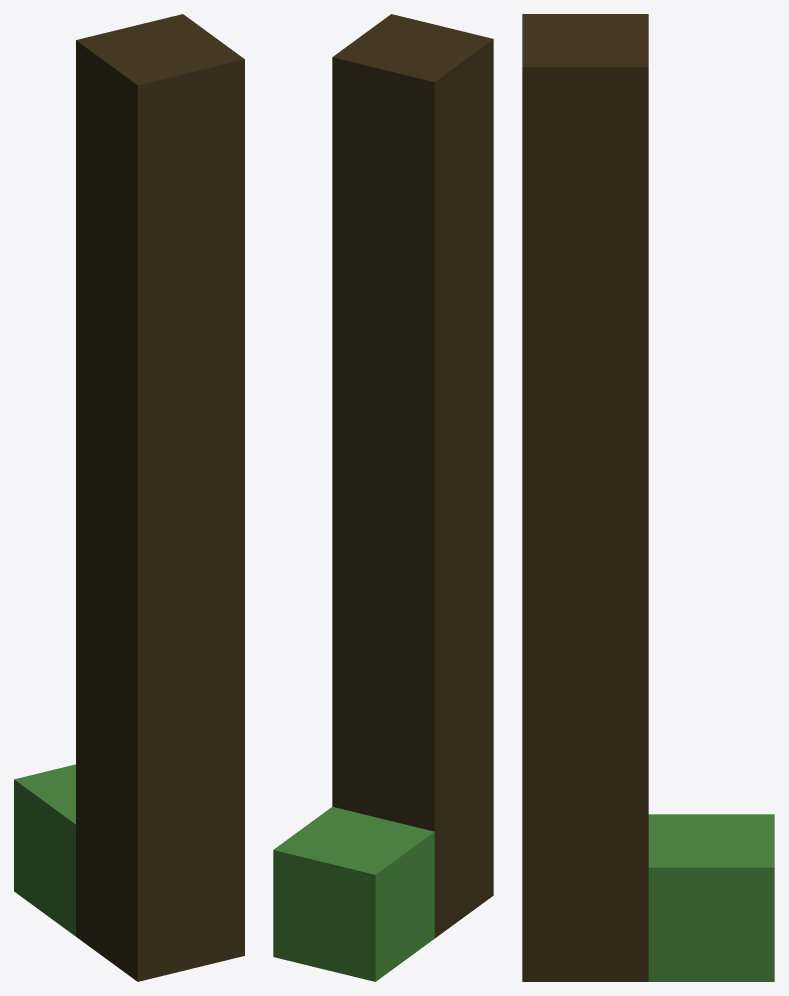
The model's file is tomatoes1.glb.
The picture shows the model from 3 angles, left to right: view 1: azimuth 30°, elevation 25°; view 2: azimuth 150°, elevation 25°; view 3: azimuth 270°, elevation 25°; orthographic projection. The views are drawn at different scales.
Visible parts, largest first — view 1: tomato_growth0; view 2: tomato_growth0; view 3: tomato_growth0.
Boxes of the visible parts, <box> form: tomato_growth0: <box>14,14,244,981</box>; tomato_growth0: <box>273,14,493,981</box>; tomato_growth0: <box>522,14,774,981</box>.
Size of the model in its own units: 0.1 by 0.8 by 0.2.
Materials: 1 (1 with a texture image).
